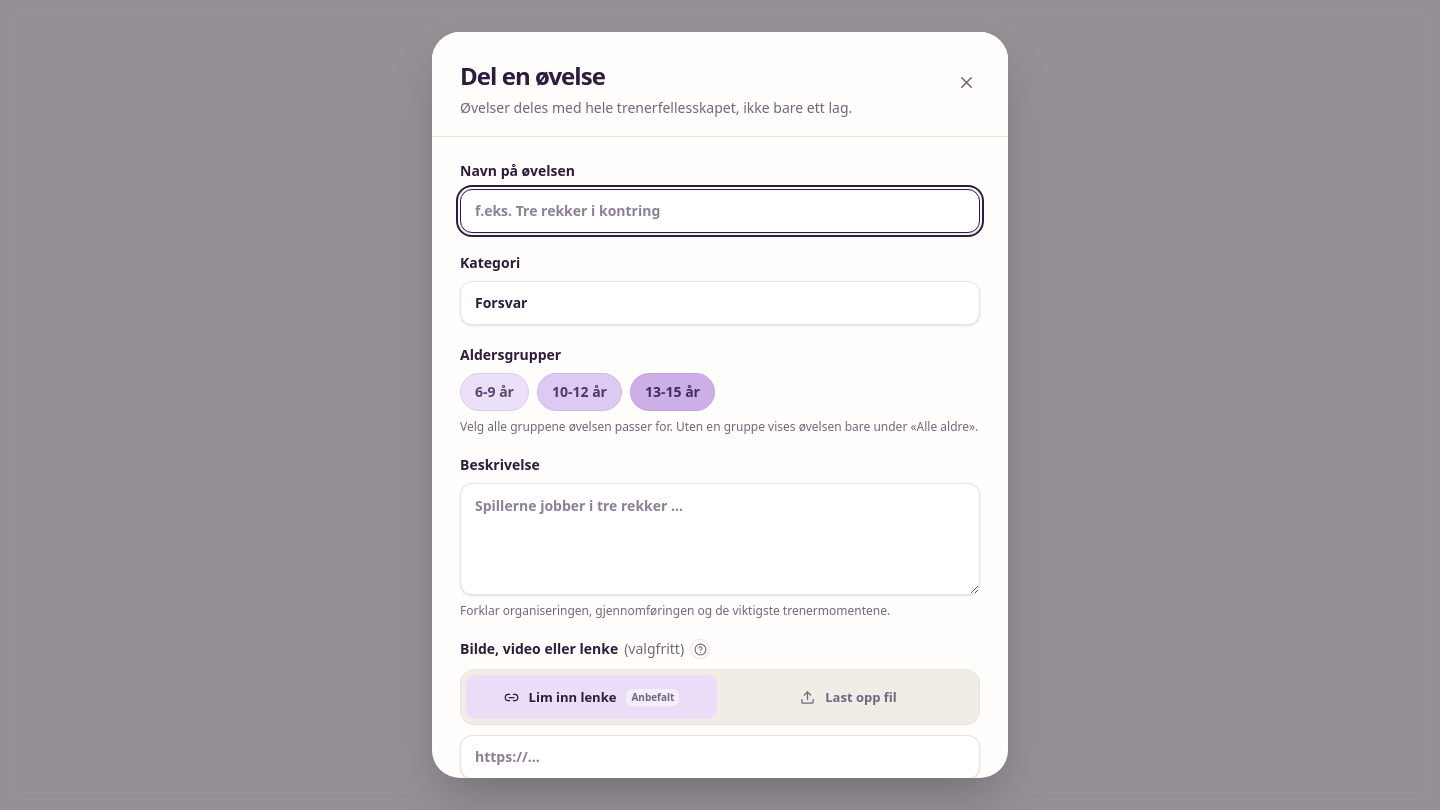
Test: ExerciseForm media source › swaps one input for the other, and only warns about rights where a file is uploaded
Type "Tre rekker" into the field labelled "Navn på øvelsen" at (720, 211), box [460,189,980,233]
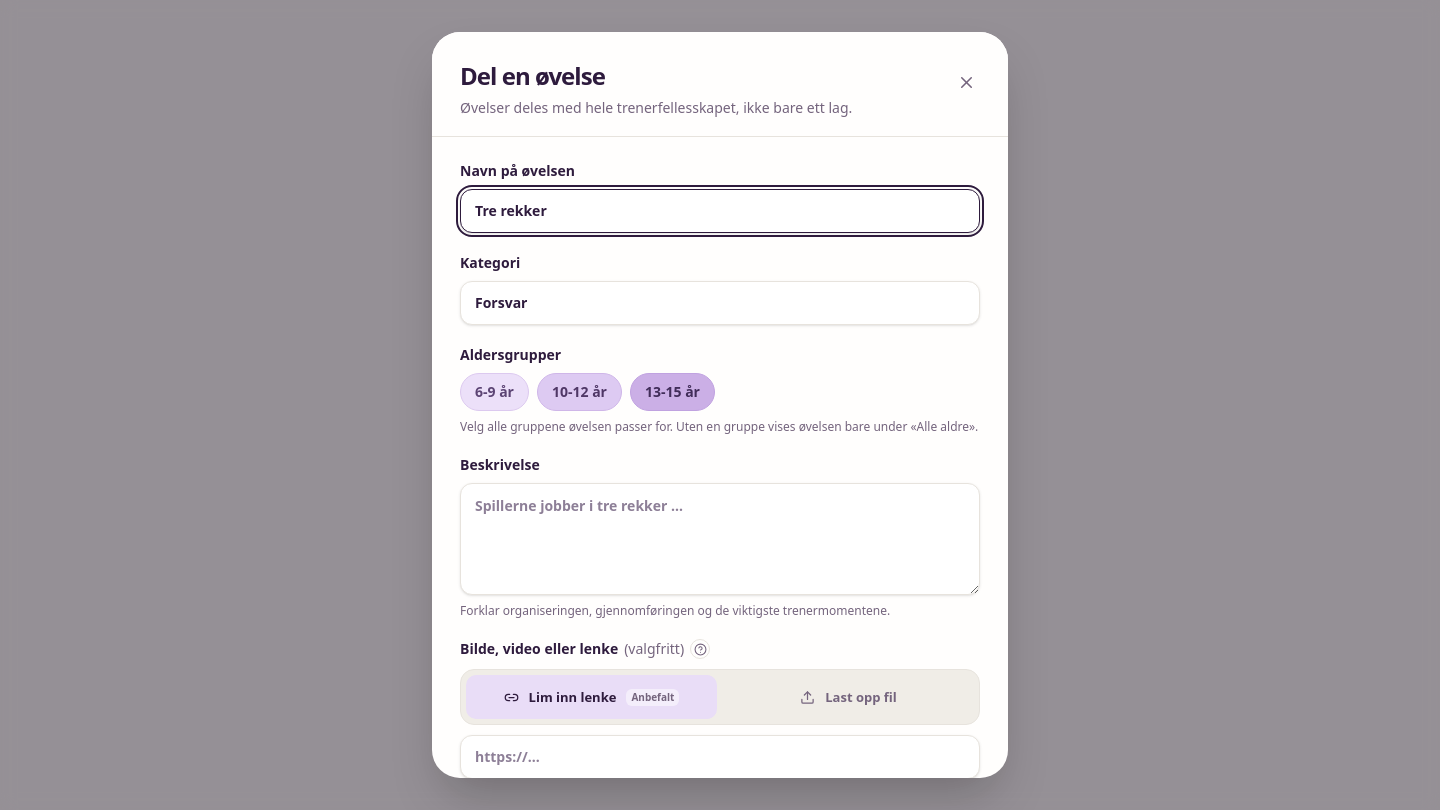
Type "Spillerne jobber i tre rekker." into the text box labelled "Beskrivelse" at (720, 539), box [460,483,980,595]
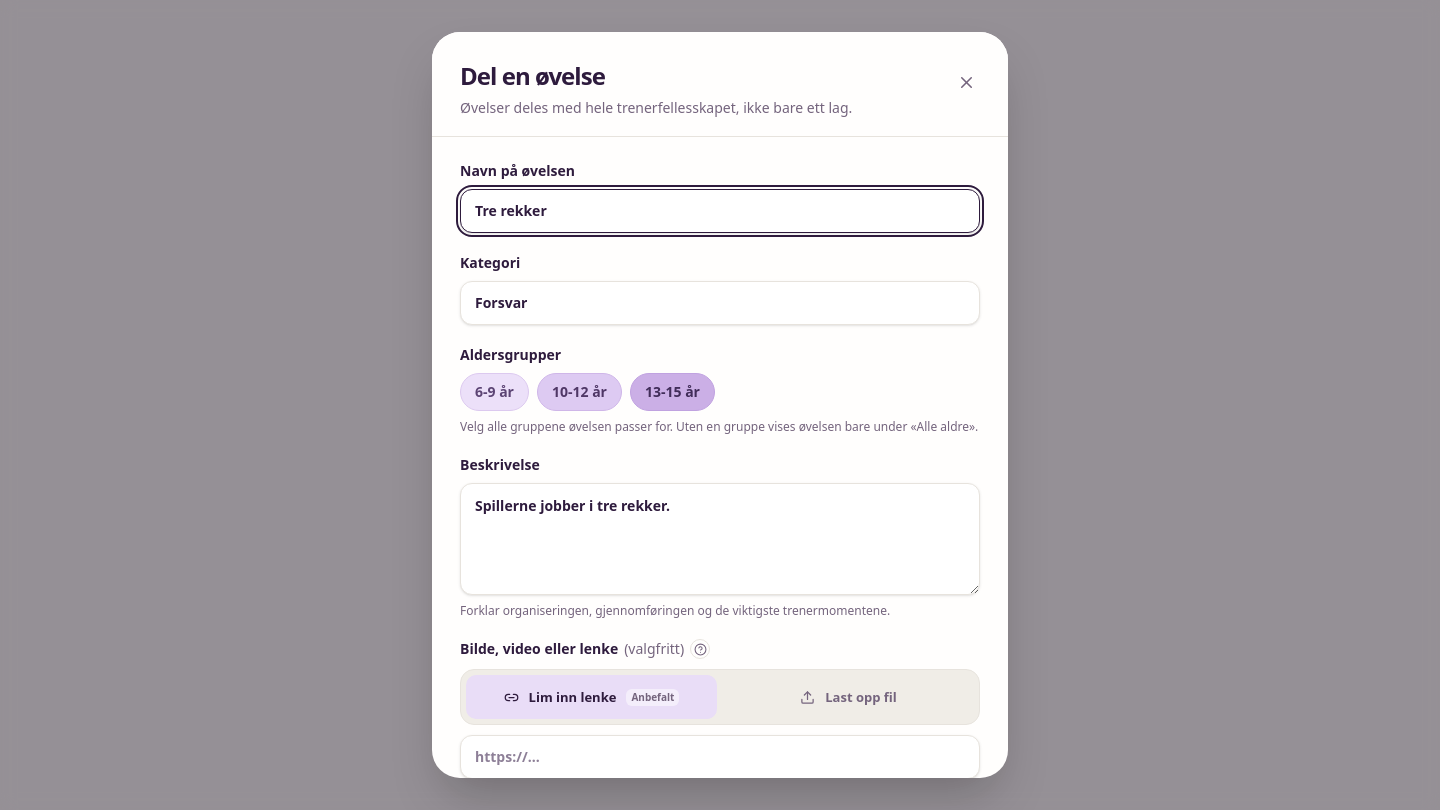
Expected: the text "Last bare opp bilder og video" is not shown
Click the button "Last opp fil" at (848, 697), box [723,675,974,719]
(page scrolled)
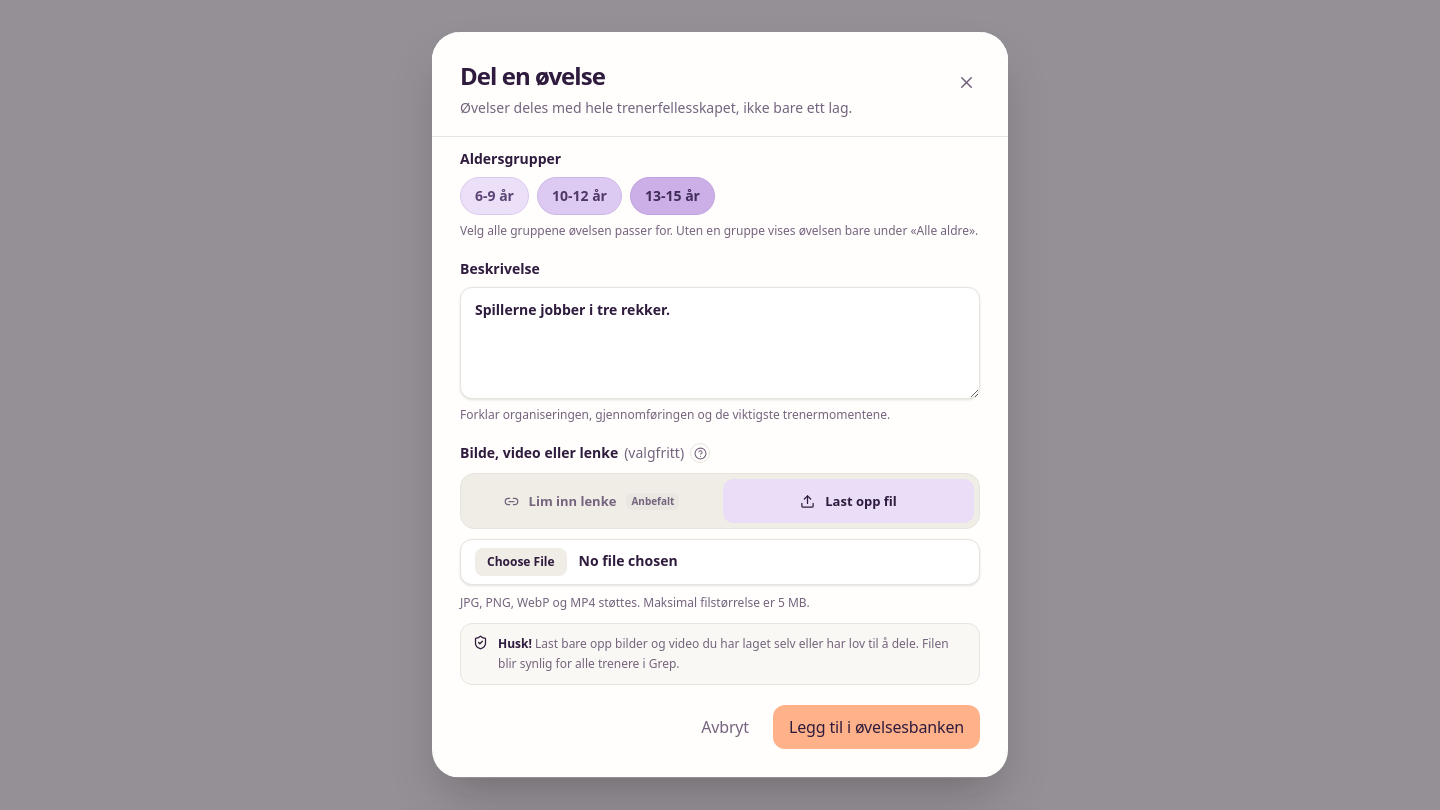
Expected: the file field named "Last opp et bilde eller en MP4-video" is shown, [460,539,980,585]
Expected: the text "Last bare opp bilder og video" is shown, [498,635,949,672]
